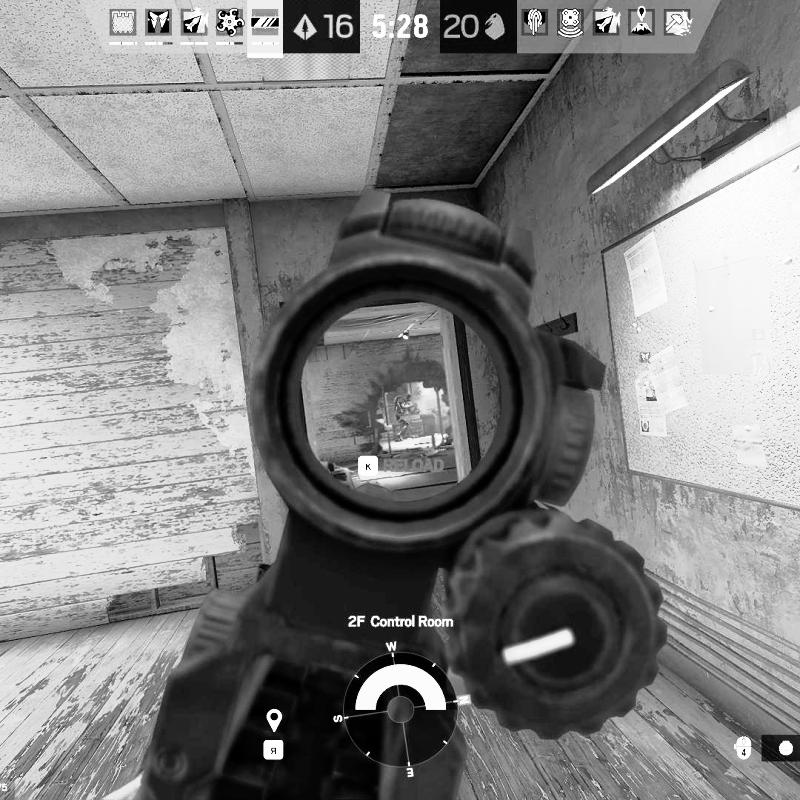Character: (394, 392, 421, 442)
Friend_label: (746, 327, 775, 355), (632, 350, 660, 378)
Head: (406, 393, 412, 400)
